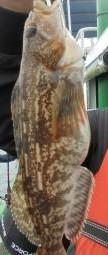fish: (10, 0, 92, 254)
